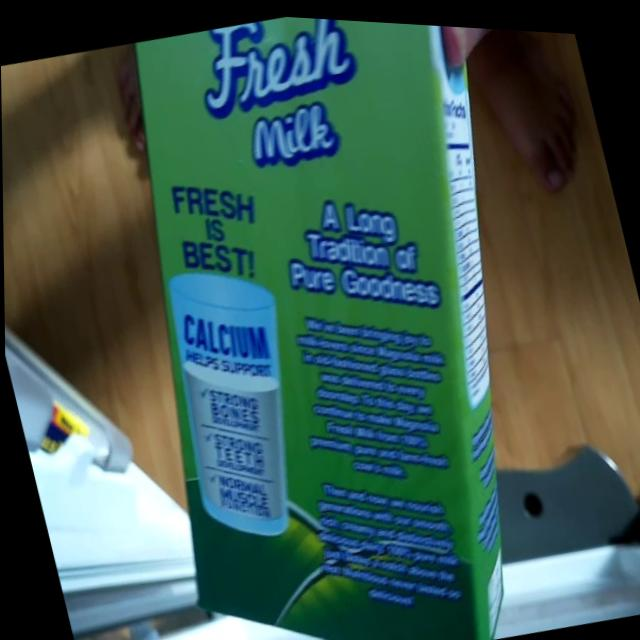milk: (65, 3, 617, 640)
